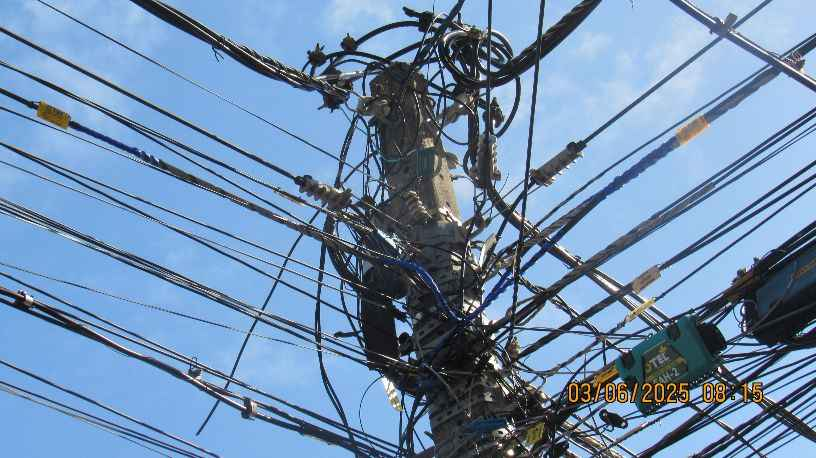caixa_derivacao: (606, 304, 726, 416), (743, 230, 814, 357)
fibra_optica: (474, 233, 587, 327), (23, 84, 107, 149), (652, 108, 726, 150), (623, 264, 667, 297)
